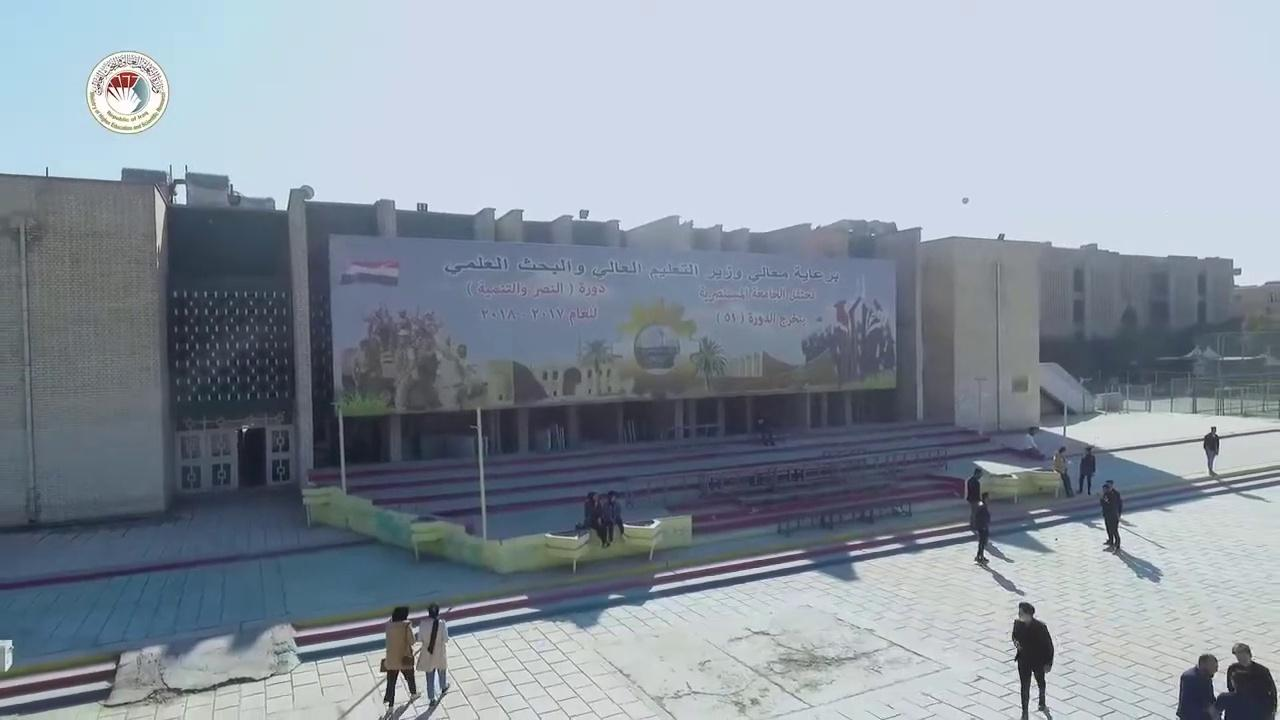car: (339, 259, 399, 286)
person: (1011, 601, 1054, 719), (1215, 642, 1278, 719), (380, 605, 422, 710), (417, 602, 450, 705), (1175, 653, 1219, 719), (574, 491, 609, 548), (1099, 480, 1122, 550), (601, 490, 626, 546), (971, 496, 990, 562), (1053, 446, 1074, 497), (965, 467, 982, 527), (1077, 445, 1095, 495), (1203, 425, 1220, 475)
tree: (1107, 303, 1146, 381), (577, 335, 621, 395), (688, 334, 727, 391)
